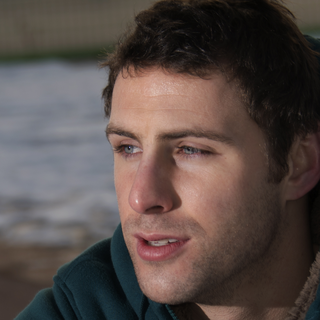eye: (168, 134, 225, 168), (110, 136, 154, 164)
